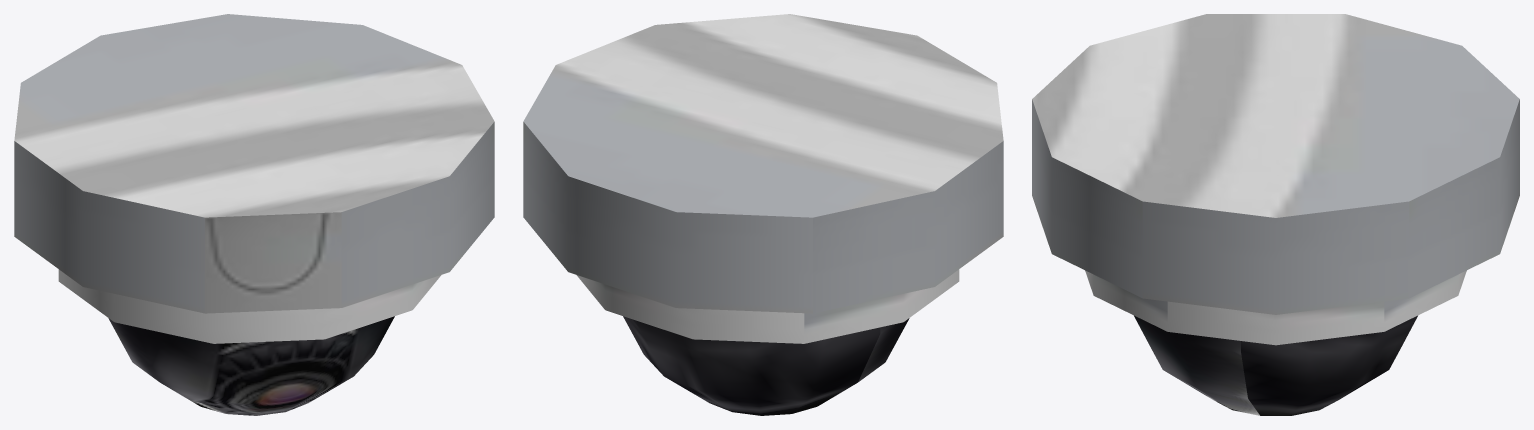
File: Securitycam1.FBX
The picture shows the model from 3 angles, left to right: view 1: azimuth 30°, elevation 25°; view 2: azimuth 150°, elevation 25°; view 3: azimuth 270°, elevation 25°; orthographic projection.
Visible parts, largest first — view 1: SecurityCam1; view 2: SecurityCam1; view 3: SecurityCam1.
Boxes of the visible parts, box(x1,y1,x2,y2) form: SecurityCam1: box(14, 14, 494, 415); SecurityCam1: box(523, 14, 1003, 415); SecurityCam1: box(1032, 14, 1519, 415).
Bounding box in the file's own units: 9.25 × 6.08 × 9.34.
